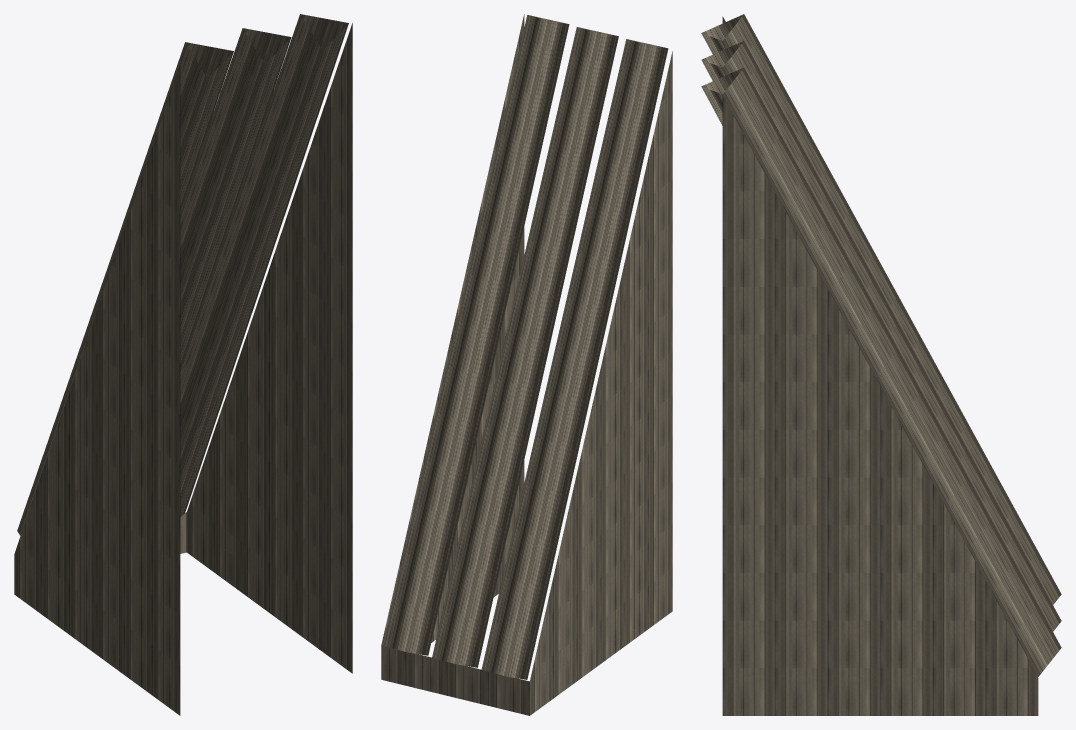
The model's file is Rampart_Buttress_Wood_1_LOD2.gltf.
3 renders of one model, left to right at view 1: azimuth 30°, elevation 25°; view 2: azimuth 150°, elevation 25°; view 3: azimuth 270°, elevation 25°, orthographic. The views are drawn at different scales.
Parts seen in each view (by area): view 1: Rampart_Buttress_Wood_1_LOD2; view 2: Rampart_Buttress_Wood_1_LOD2; view 3: Rampart_Buttress_Wood_1_LOD2.
Part boxes in pixels (bbox=[...]): Rampart_Buttress_Wood_1_LOD2: bbox=[14, 14, 352, 715]; Rampart_Buttress_Wood_1_LOD2: bbox=[381, 14, 672, 715]; Rampart_Buttress_Wood_1_LOD2: bbox=[701, 14, 1061, 715].
Size of the model in its own units: 3.6 by 13.2 by 6.85.
Materials: 1 (1 with a texture image).
